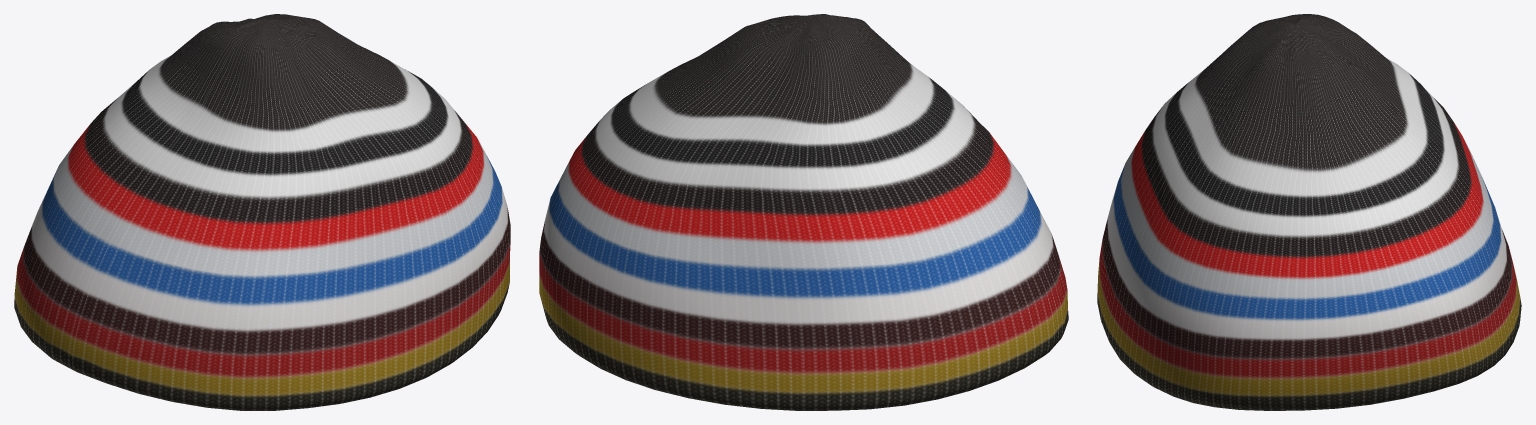
File: knittedHat_main_two.glb
3 renders of one model, left to right at view 1: azimuth 30°, elevation 25°; view 2: azimuth 150°, elevation 25°; view 3: azimuth 270°, elevation 25°, orthographic. The views are drawn at different scales.
Visible parts, largest first — view 1: bottom_section, mid_section, top_section; view 2: bottom_section, mid_section, top_section; view 3: bottom_section, mid_section, top_section.
Part boxes in pixels (left/top/right/bottom): bottom_section: left=14, top=156, right=510, bottom=410; mid_section: left=53, top=69, right=492, bottom=275; top_section: left=140, top=14, right=430, bottom=151; bottom_section: left=539, top=180, right=1068, bottom=410; mid_section: left=559, top=77, right=1027, bottom=268; top_section: left=631, top=14, right=932, bottom=144; bottom_section: left=1097, top=165, right=1521, bottom=410; mid_section: left=1121, top=72, right=1493, bottom=297; top_section: left=1179, top=14, right=1426, bottom=195.
Size of the model in its own units: 0.3804 by 0.2509 by 0.3172.
Materials: 1 (1 with a texture image).
